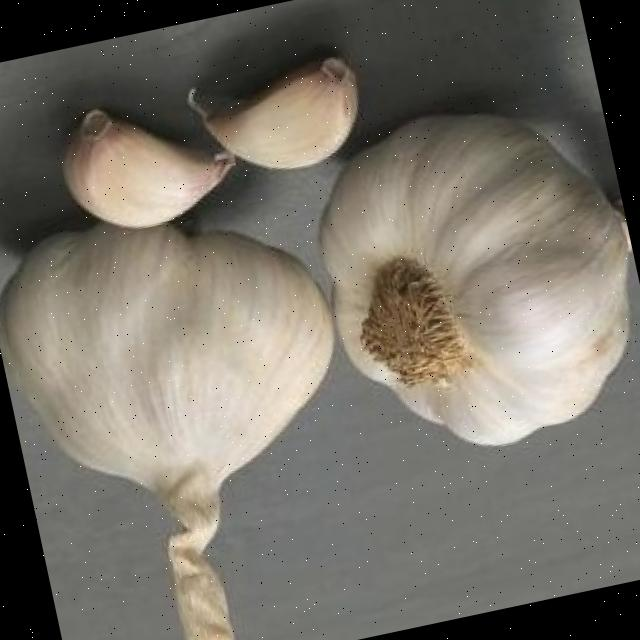garlic: (0, 225, 335, 640), (324, 117, 631, 446), (65, 111, 231, 229), (194, 59, 360, 170)
